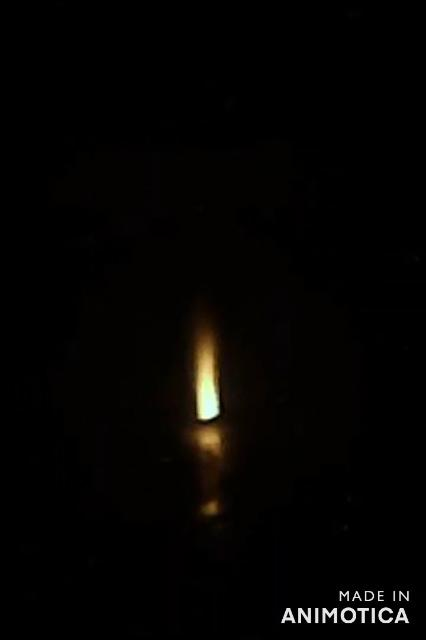burner flame: (191, 324, 223, 422)
